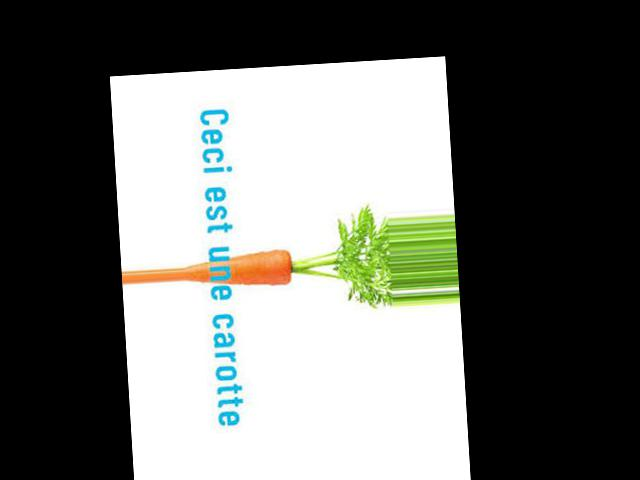carrot: (181, 240, 306, 306)
